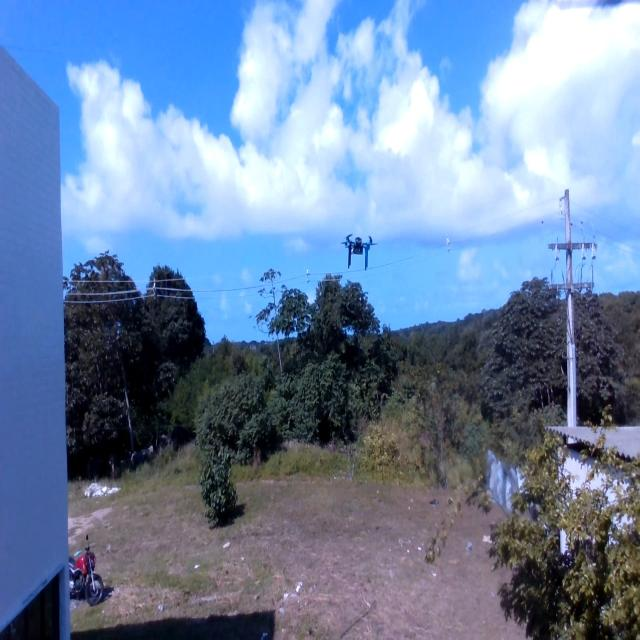-uav-: (336, 220, 380, 277)
